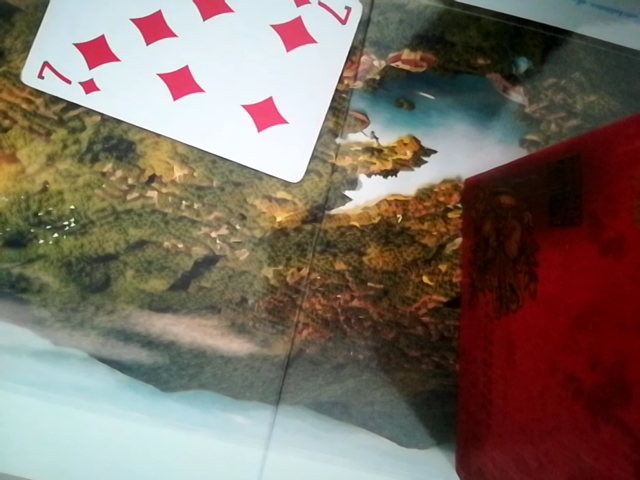fk 7: (16, 3, 369, 184)
